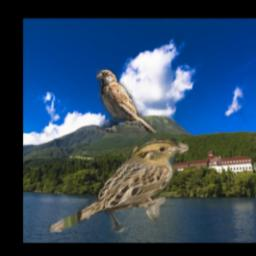Sparrow: (50, 139, 190, 233), (97, 68, 158, 133)
